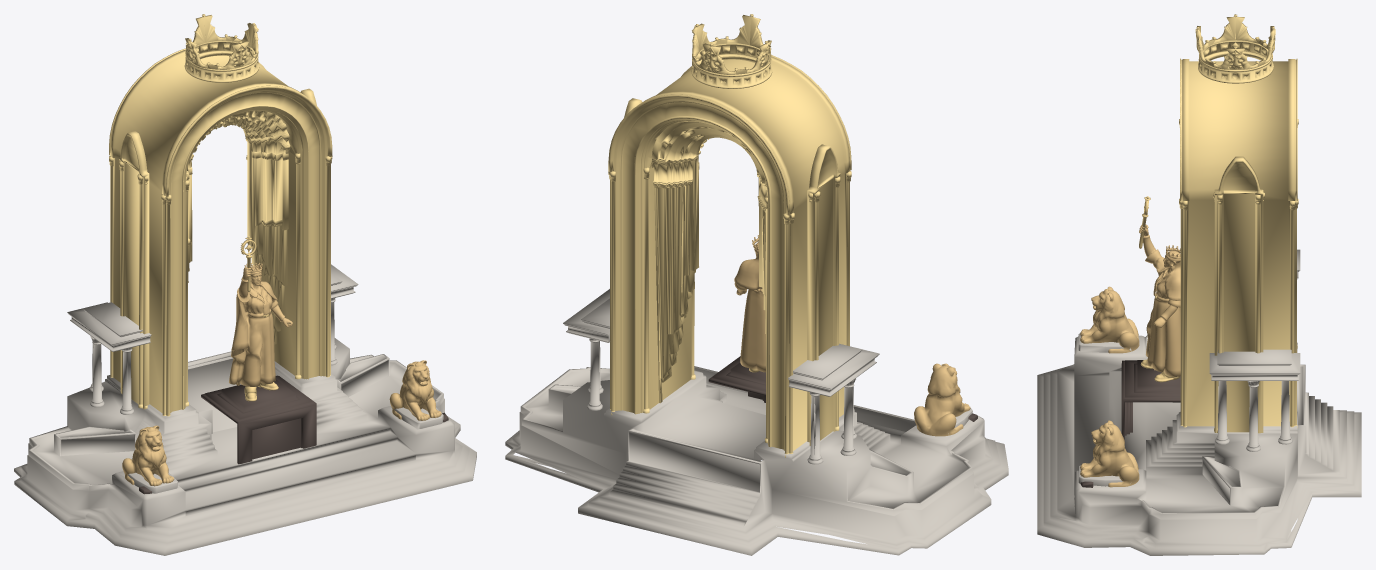
Rendered from ismoili_somoni_v2.glb.
3 views of the same model, side by side, from view 1: azimuth 30°, elevation 25°; view 2: azimuth 150°, elevation 25°; view 3: azimuth 270°, elevation 25° (orthographic). The views are drawn at different scales.
Parts seen in each view (by area): view 1: Monument_IsmoiliSomoni_Mesh; view 2: Monument_IsmoiliSomoni_Mesh; view 3: Monument_IsmoiliSomoni_Mesh.
Boxes of the visible parts, box(x1,y1,x2,y2) form: Monument_IsmoiliSomoni_Mesh: box(14, 14, 476, 555); Monument_IsmoiliSomoni_Mesh: box(505, 14, 1008, 555); Monument_IsmoiliSomoni_Mesh: box(1037, 14, 1361, 555).
Bounding box in the file's own units: 42.23 × 43 × 29.38.
